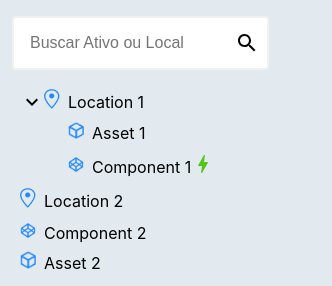
Test: TreeComponent › expands and collapses tree nodes on click
Expected: the text "Asset 1" is shown, 68,121 -> 146,145
Click the text "Location 1": click(82, 102) 20,89 -> 144,115
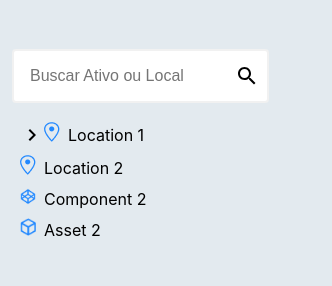
Expected: the text "Asset 1" is gone
Click the text "Location 1": click(82, 135) 20,122 -> 144,148
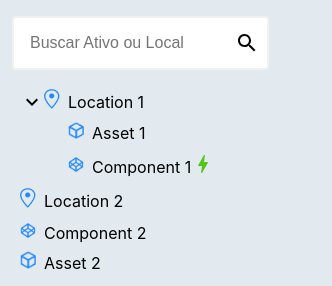
Expected: the text "Asset 1" is shown, 68,121 -> 146,145
